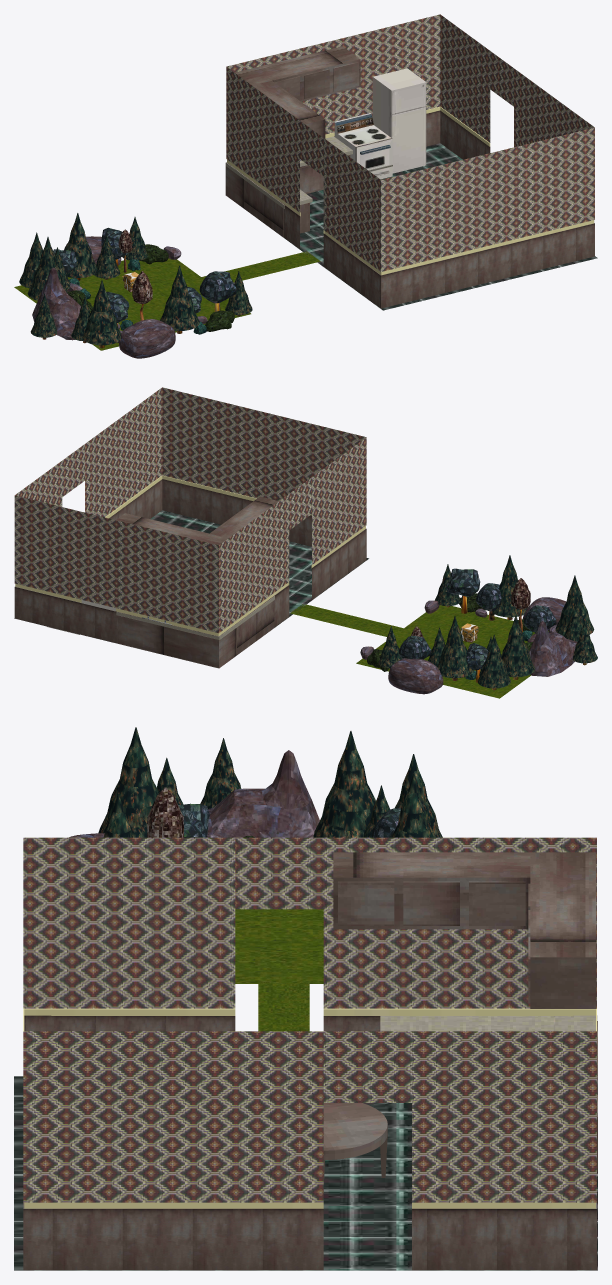
File: environ-01-yard-kitchen-test.glb
The picture shows the model from 3 angles, top to bottom: view 1: azimuth 30°, elevation 25°; view 2: azimuth 150°, elevation 25°; view 3: azimuth 270°, elevation 25°; orthographic projection. The views are drawn at different scales.
Parts seen in each view (by area): view 1: wall-house-interior-upper, wall-house-interior-lower, cabinet, Cube.001, ground, kitchen-floor, counter-bottom, oven, w-house-interior-dooraccess, wall.rocklg02.001, wall-house-interior-trim, wall.rock_lg (+14 smaller); view 2: wall-house-interior-upper, wall-house-interior-lower, counter-bottom, ground, kitchen-floor, cabinet, wall.rock_lg, wall-house-interior-trim, w-house-interior-dooraccess, wall.rocklg02, Plane, wall.pinetree.001 (+16 smaller); view 3: wall-house-interior-upper, wall-house-interior-lower, cabinet, kitchen-floor, w-house-interior-dooraccess, wall-house-interior-trim, ground, wall.rock_lg, wall.pinetree, counter-top, table, wall.pinetree04 (+7 smaller).
Boxes of the visible parts, bbox=[...] form: wall-house-interior-upper: bbox=[226, 14, 594, 271]; wall-house-interior-lower: bbox=[226, 110, 594, 308]; cabinet: bbox=[234, 46, 360, 138]; Cube.001: bbox=[372, 68, 426, 173]; ground: bbox=[14, 258, 250, 350]; kitchen-floor: bbox=[284, 143, 597, 310]; counter-bottom: bbox=[225, 155, 350, 237]; oven: bbox=[334, 113, 392, 179]; w-house-interior-dooraccess: bbox=[300, 51, 513, 175]; wall.rocklg02.001: bbox=[119, 319, 175, 358]; wall-house-interior-trim: bbox=[227, 106, 594, 275]; wall.rock_lg: bbox=[32, 267, 80, 340]; wall-house-interior-upper: bbox=[14, 387, 366, 633]; wall-house-interior-lower: bbox=[14, 479, 366, 643]; counter-bottom: bbox=[118, 600, 274, 668]; ground: bbox=[356, 605, 548, 698]; kitchen-floor: bbox=[14, 510, 368, 643]; cabinet: bbox=[116, 496, 278, 545]; wall.rock_lg: bbox=[529, 621, 577, 676]; wall-house-interior-trim: bbox=[15, 475, 365, 636]; w-house-interior-dooraccess: bbox=[62, 444, 311, 530]; wall.rocklg02: bbox=[388, 658, 443, 694]; Plane: bbox=[290, 604, 404, 636]; wall.pinetree.001: bbox=[437, 616, 474, 678]; wall-house-interior-upper: bbox=[23, 837, 596, 1202]; wall-house-interior-lower: bbox=[23, 1015, 596, 1270]; cabinet: bbox=[333, 852, 596, 1008]; kitchen-floor: bbox=[14, 1076, 597, 1270]; w-house-interior-dooraccess: bbox=[235, 837, 411, 1102]; wall-house-interior-trim: bbox=[23, 1008, 596, 1208]; ground: bbox=[235, 909, 323, 983]; wall.rock_lg: bbox=[207, 750, 319, 837]; wall.pinetree: bbox=[313, 731, 375, 837]; counter-top: bbox=[380, 1015, 597, 1119]; table: bbox=[323, 1103, 387, 1184]; wall.pinetree04: bbox=[98, 727, 159, 837].
Size of the model in its own units: 95.06 by 24 by 50.96.
17 materials, 17 textured.
